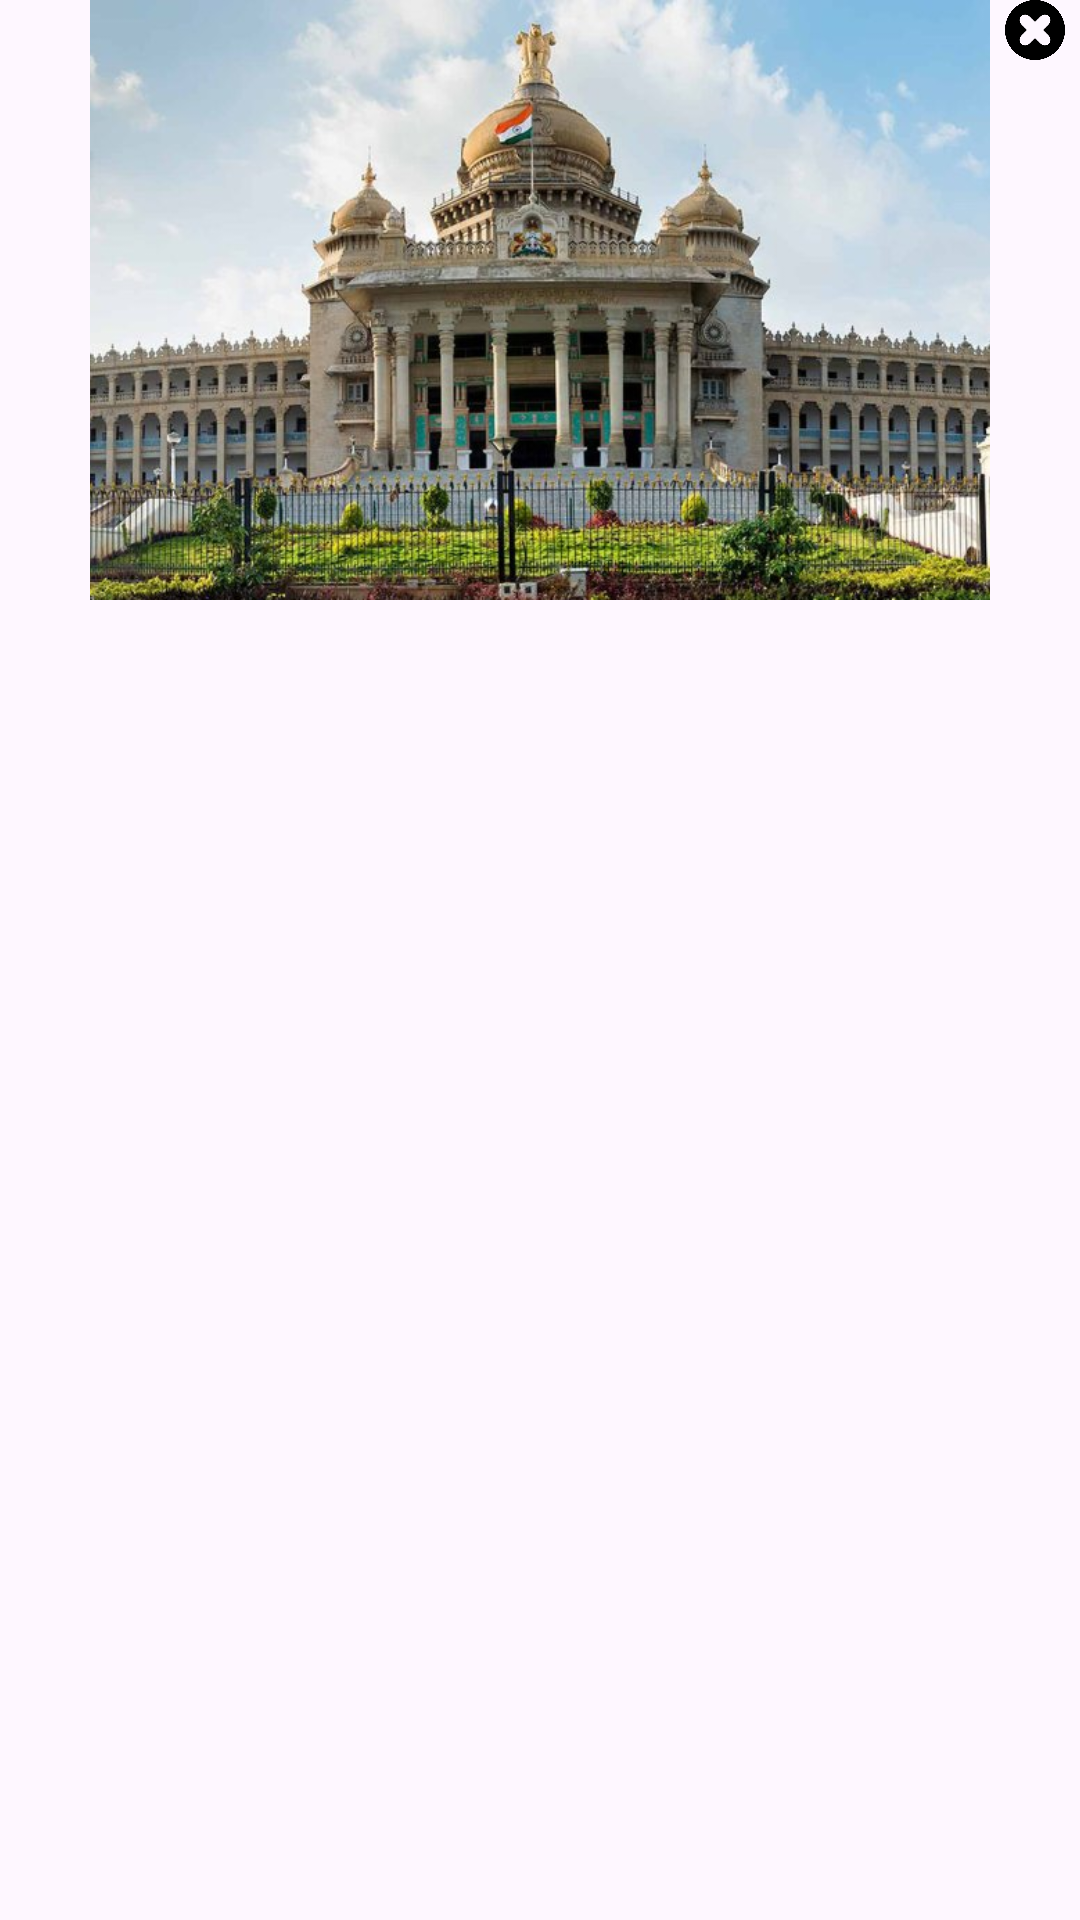

Screen size 1080w x 1920h. Icon name, then its box in pixels as (x1, y1, x2, y2):
close: (1005, 0, 1065, 60)
